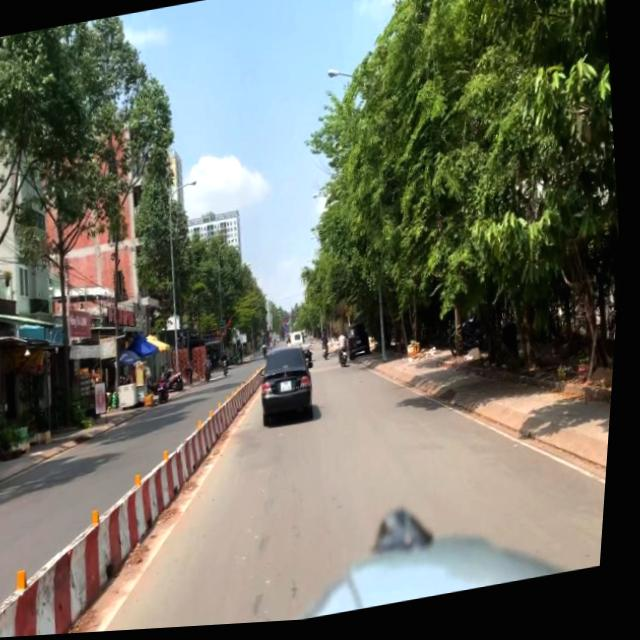Cam di nguoc chieu: (288, 324, 292, 329)
Vong chuong ngai vat sang phai: (288, 328, 293, 333)
